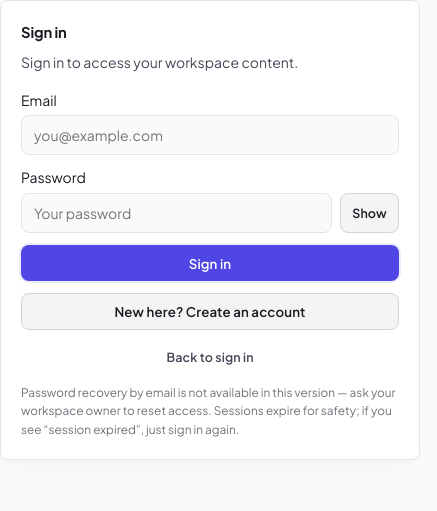
it: LoginForm auth bootstrap › shows field-level validation for empty sign-in fields
What coordinates should you click on to do the following:
click the button "Sign in"
I would click on:
 (210, 263)
Its box is [21, 245, 399, 282].
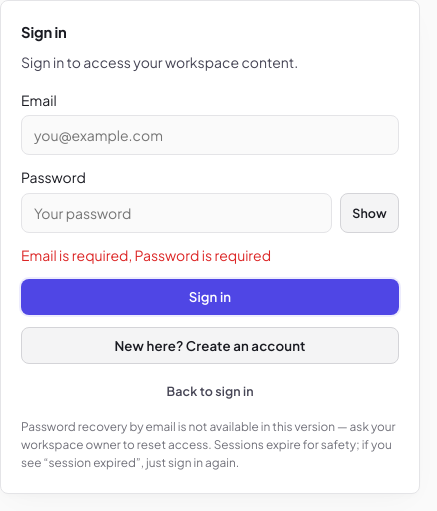
Expected: the text "Email is required, Password is required" is shown, [21, 246, 271, 264]
